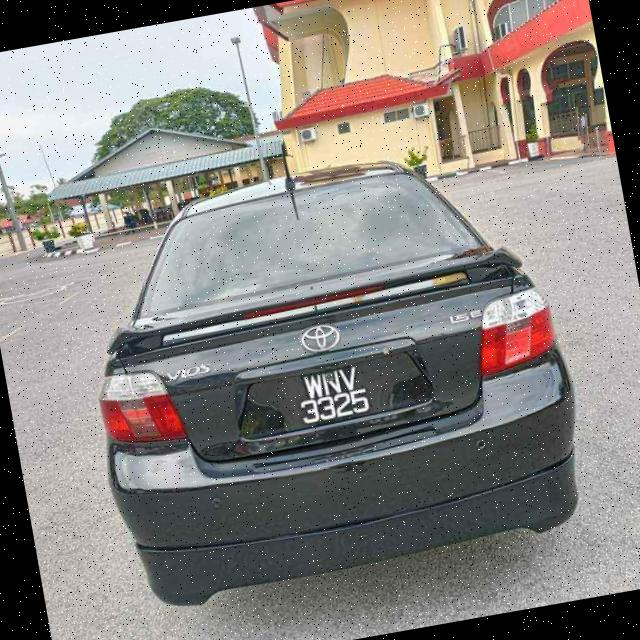License_Plate: (252, 353, 412, 437)
car: (62, 135, 591, 608)
